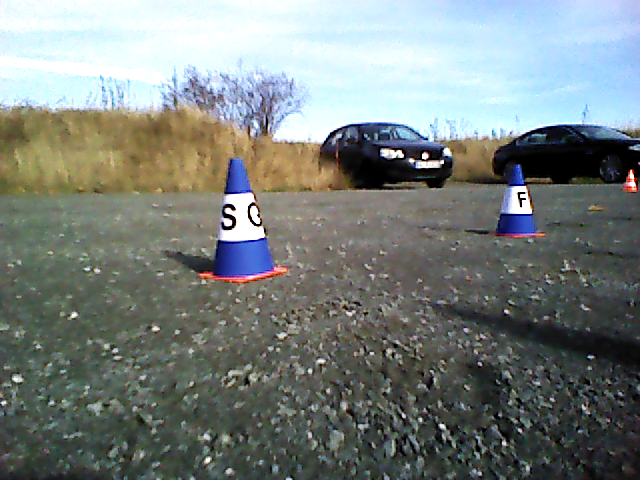bluecone: (212, 157, 273, 274), (499, 165, 536, 233)
orangeconesmall: (621, 169, 637, 191)
